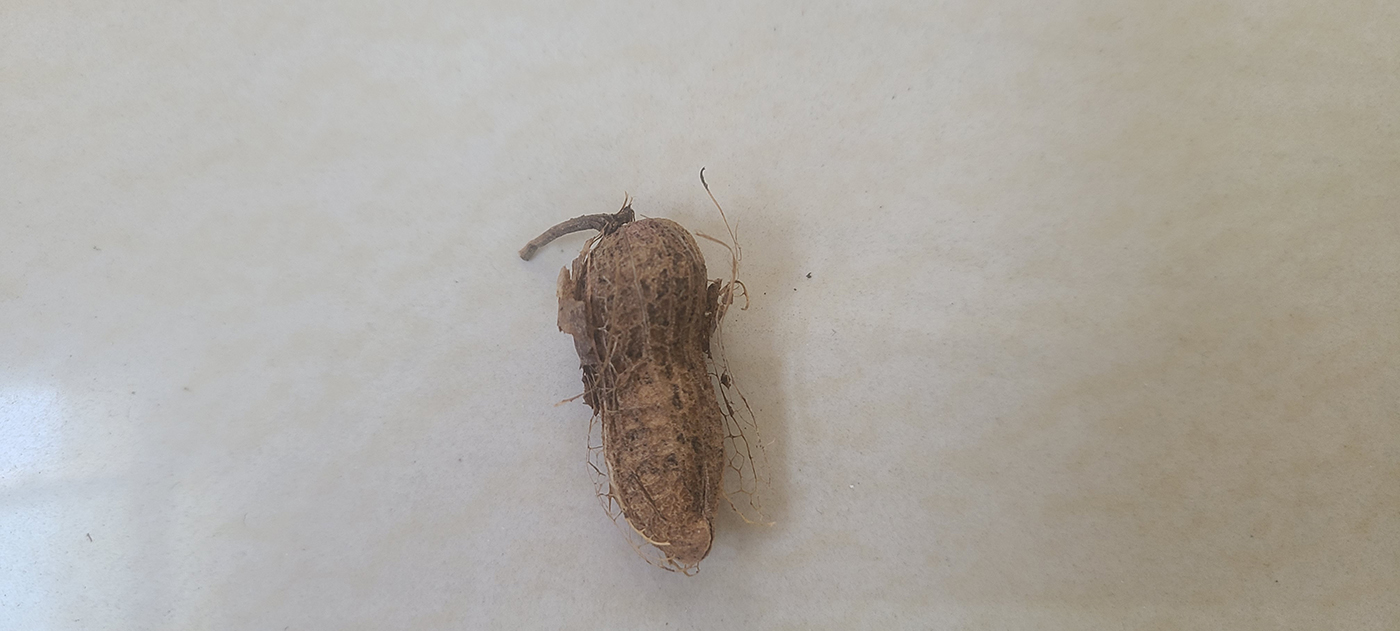l: (559, 215, 727, 567)
